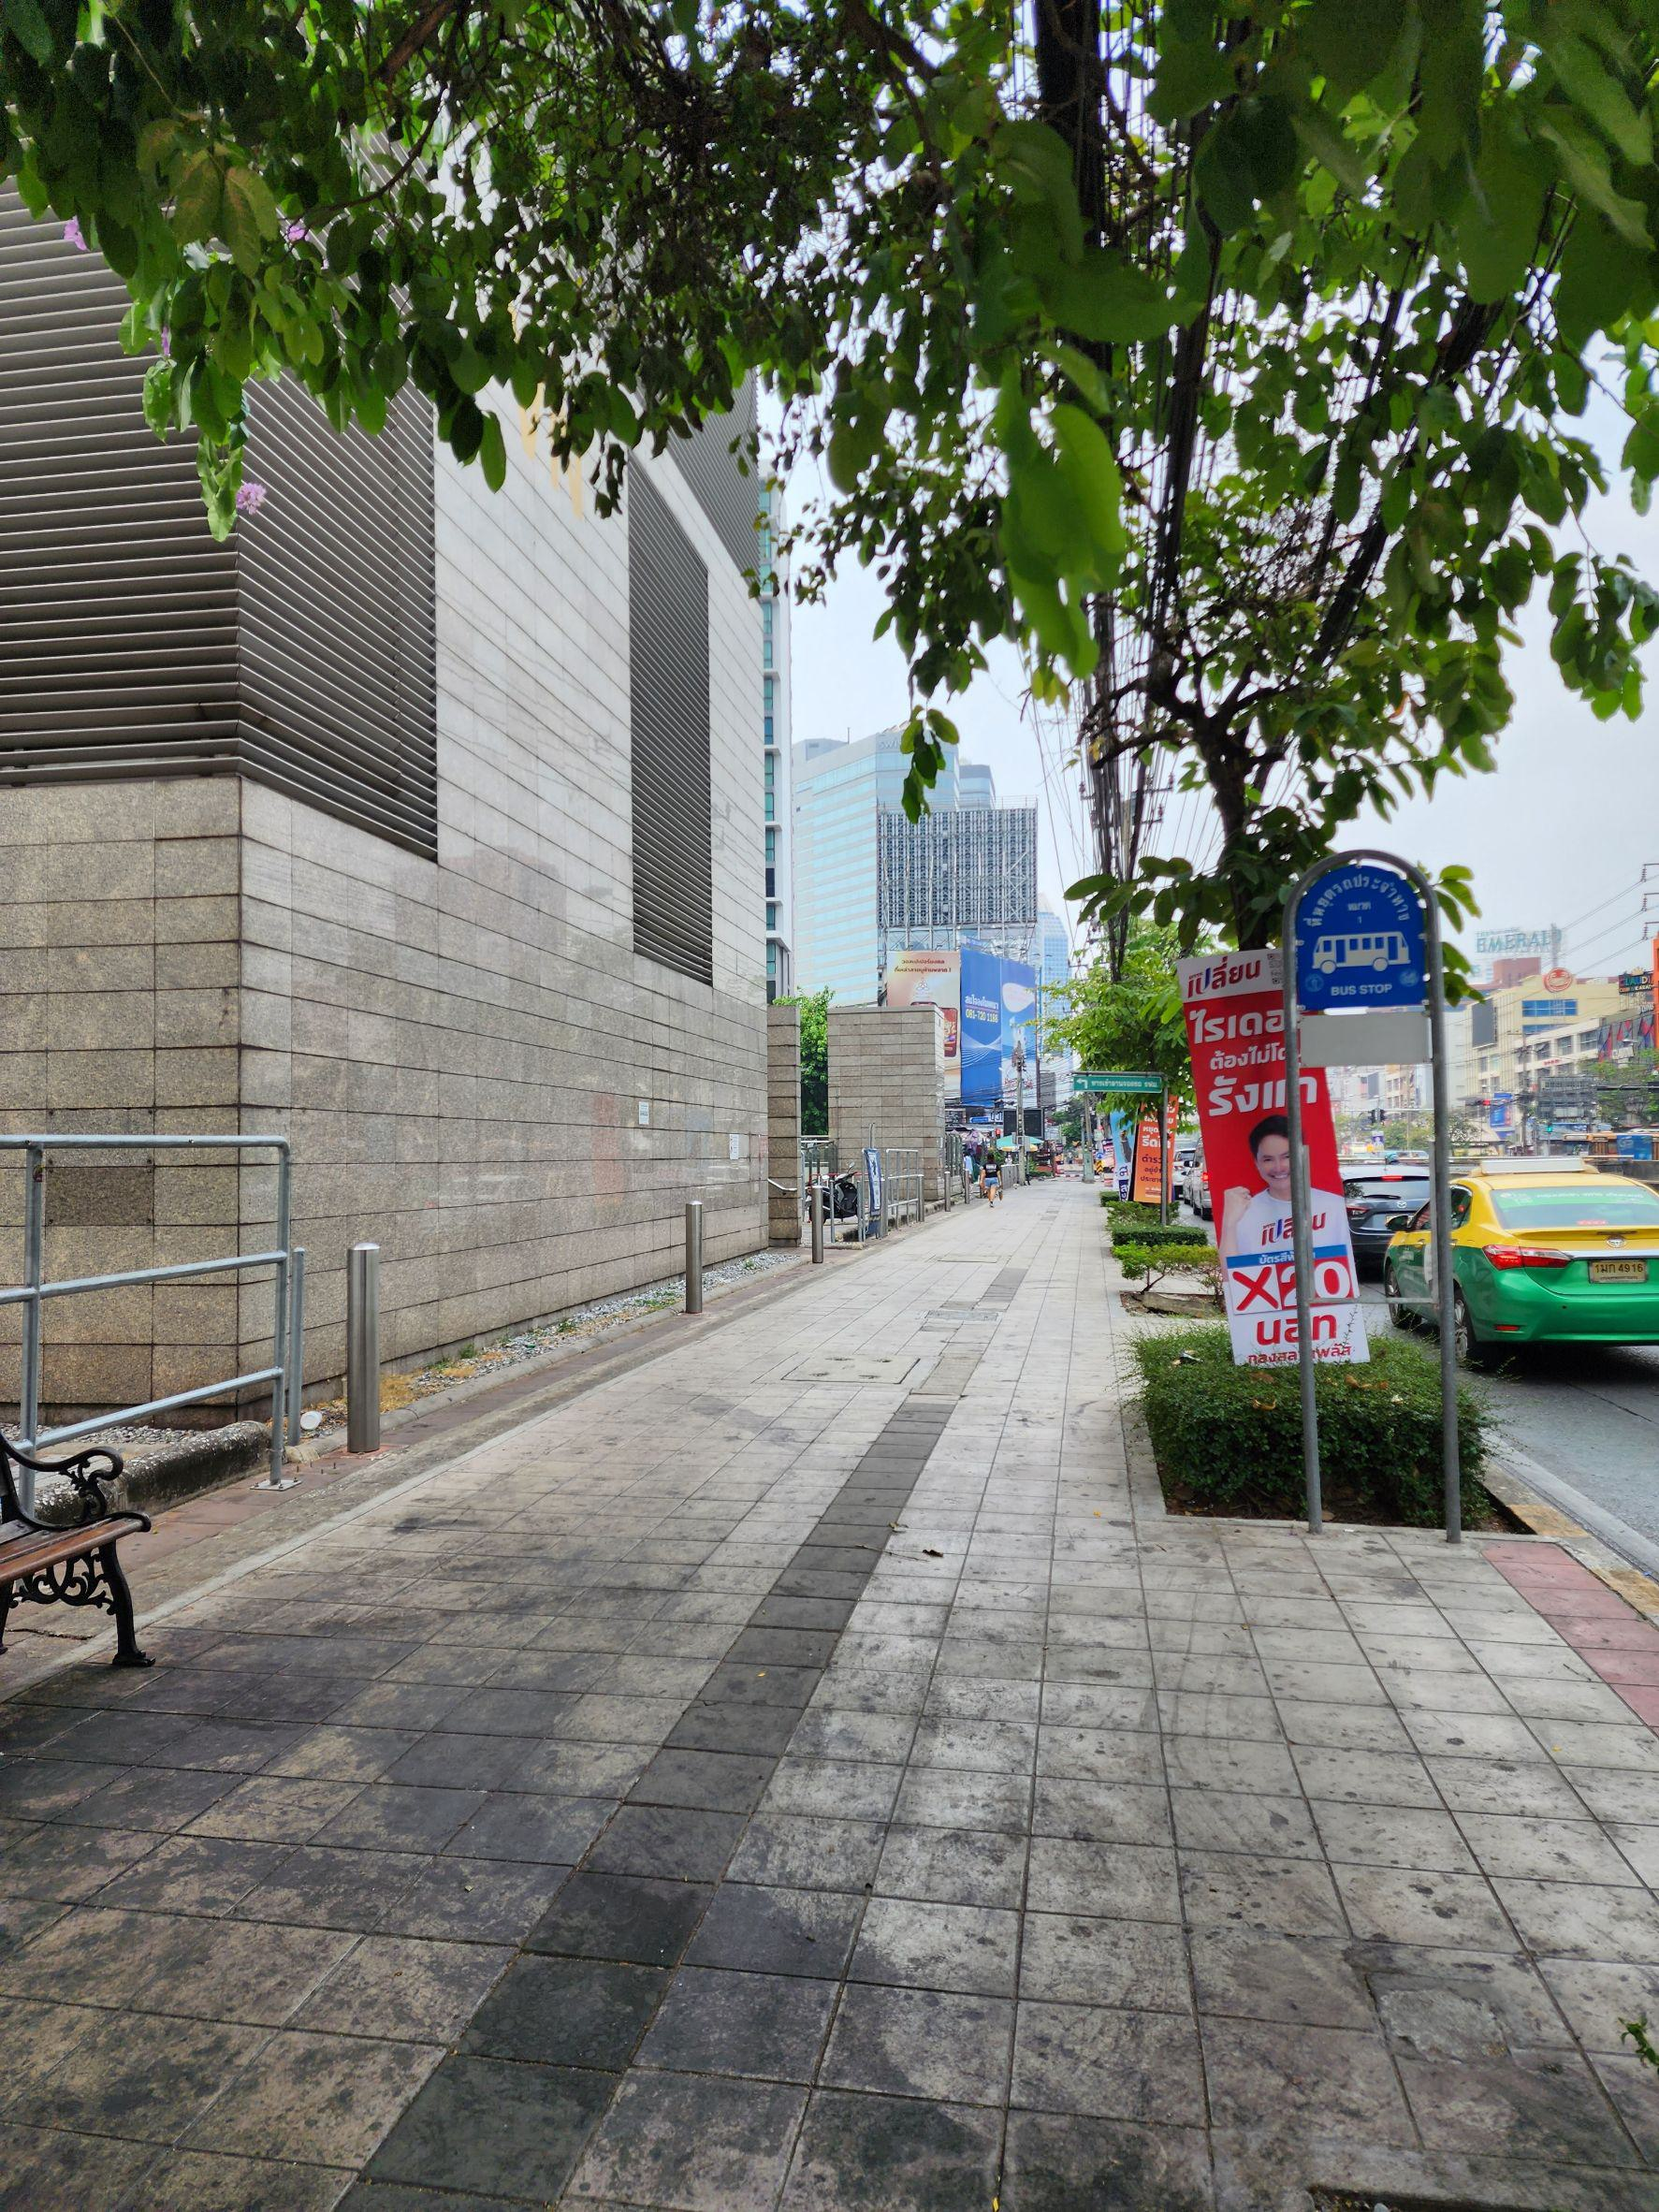Banner: (1175, 946, 1384, 1367)
